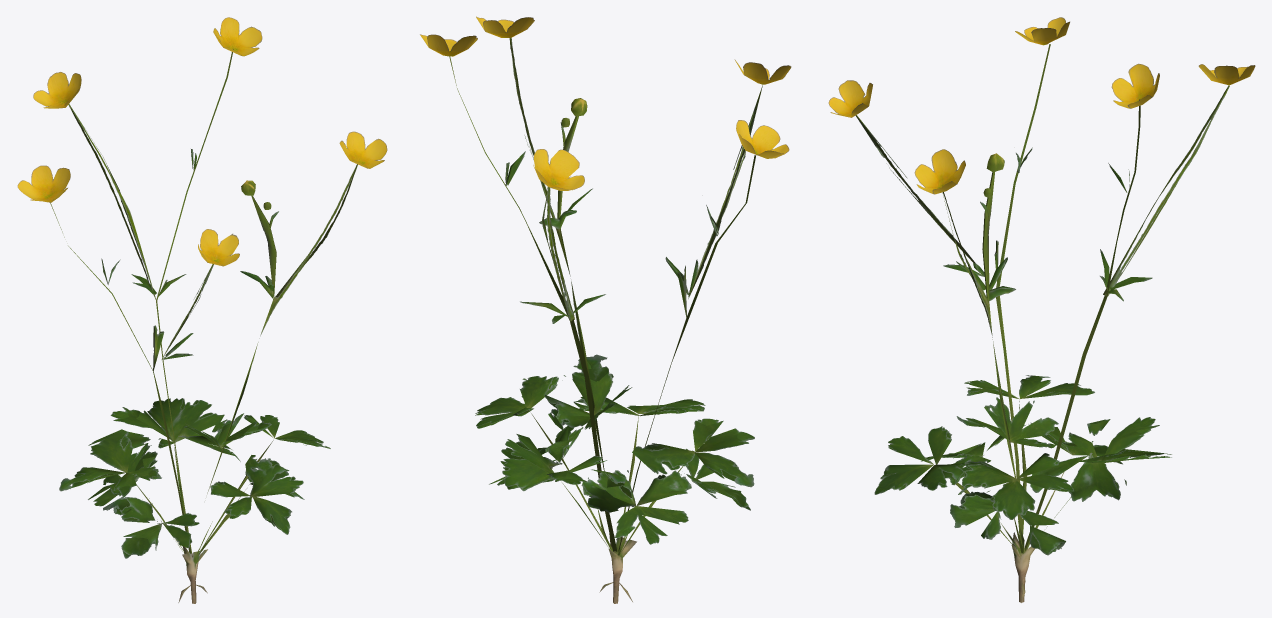
File: MeadowButtercup.glb
3 renders of one model, left to right at view 1: azimuth 30°, elevation 25°; view 2: azimuth 150°, elevation 25°; view 3: azimuth 270°, elevation 25°, orthographic. The views are drawn at different scales.
Parts seen in each view (by area): view 1: geometry_0; view 2: geometry_0; view 3: geometry_0.
Boxes of the visible parts, x1,y1,x2,y2 form: geometry_0: (17, 17, 387, 603); geometry_0: (420, 16, 791, 603); geometry_0: (828, 17, 1255, 602).
Size of the model in its own units: 0.2721 by 0.42 by 0.2844.
1 material, 1 textured.
